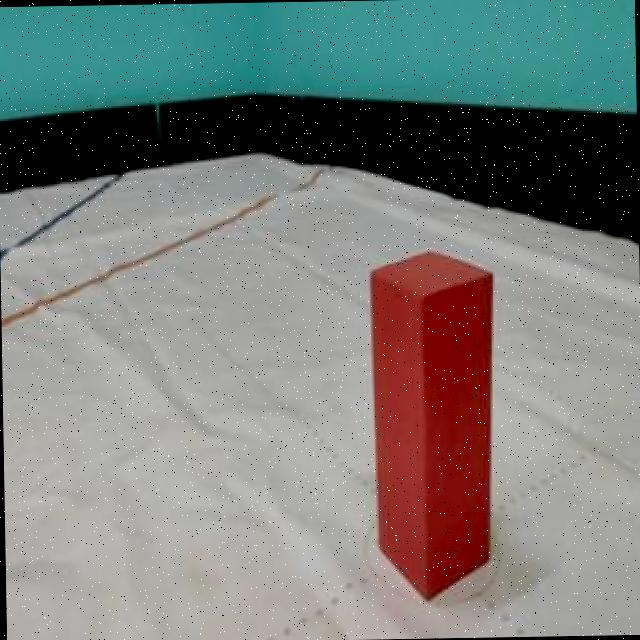redbox: (368, 248, 497, 606)
